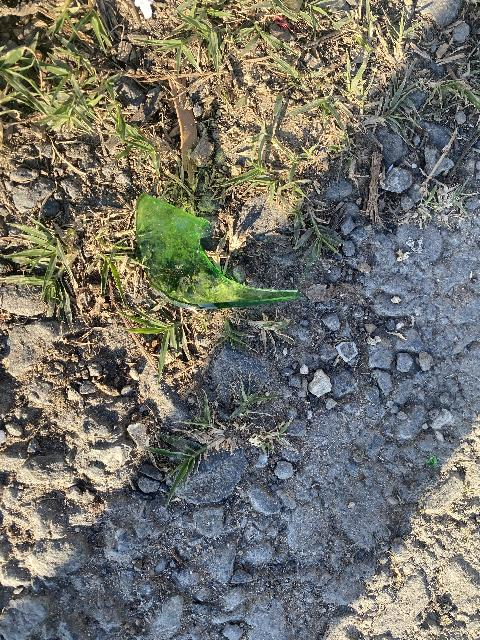Cam: (116, 200, 298, 306)
Organik: (0, 52, 62, 95)
